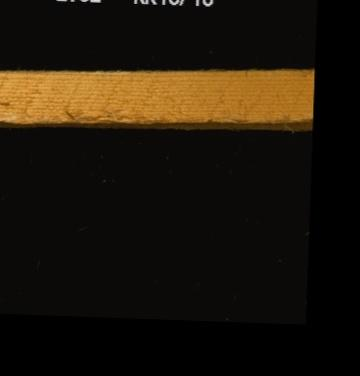wave: (138, 113, 312, 129)
